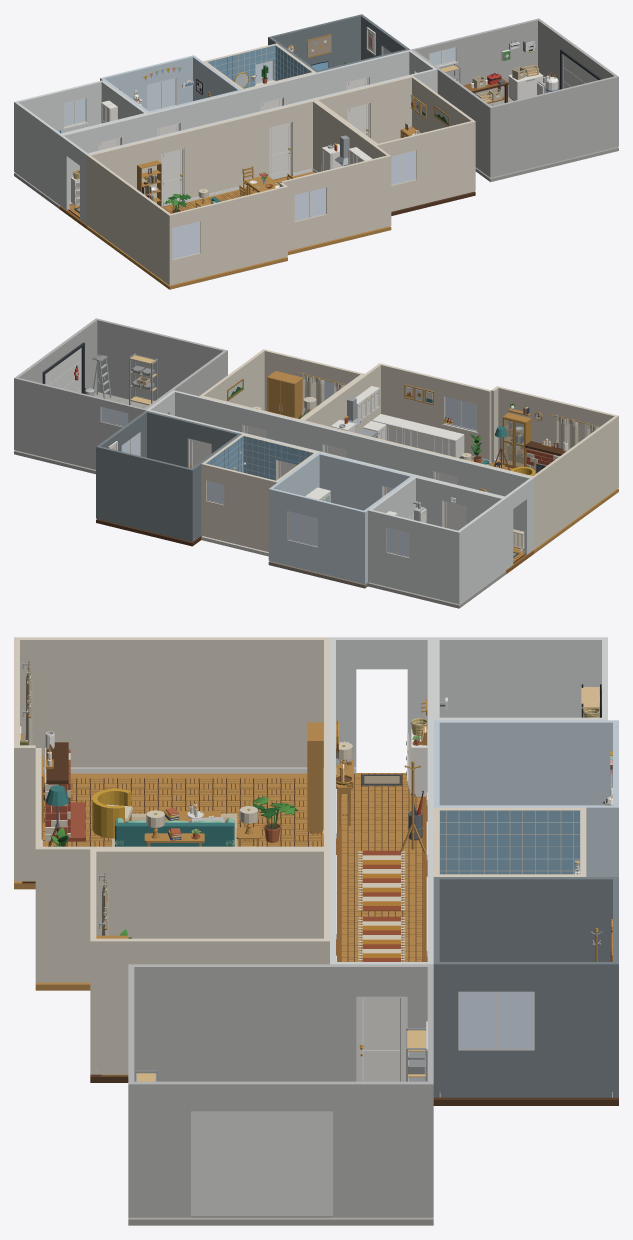
File: SM_LPI_Room_FlatFamily.fbx
3 views of the same model, one above another, from view 1: azimuth 30°, elevation 25°; view 2: azimuth 150°, elevation 25°; view 3: azimuth 270°, elevation 25° (orthographic). The views are drawn at different scales.
Parts seen in each view (by area): view 1: SM_LPI_Room_Living, SM_LPI_Room_Garage, SM_LPI_Room_Kitchen, SM_LPI_Room_Hall, SM_LPI_Room_Bedroom, SM_LPI_Room_Utility, SM_LPI_Room_Office, SM_LPI_Room_Kids, SM_LPI_Room_Bathroom, SM_LPI_Open_DoorSet_01.002, SM_LPI_Open_DoorSet_01.001, SM_LPI_Room_GarageDoor (+10 smaller); view 2: SM_LPI_Room_Garage, SM_LPI_Room_Utility, SM_LPI_Room_Office, SM_LPI_Room_Hall, SM_LPI_Room_Kids, SM_LPI_Room_Living, SM_LPI_Room_Bathroom, SM_LPI_Room_Kitchen, SM_LPI_Room_Bedroom, SM_LPI_Storage_Wardrobe_01.001, SM_LPI_Storage_Cabinet_01.001, SM_LPI_Room_GarageDoor (+11 smaller); view 3: SM_LPI_Room_Garage, SM_LPI_Room_Living, SM_LPI_Room_Office, SM_LPI_Room_Bedroom, SM_LPI_Room_Kids, SM_LPI_Room_GarageDoor, SM_LPI_Room_Utility, SM_LPI_Room_Hall, SM_LPI_Room_Bathroom, SM_LPI_Room_Kitchen, SM_LPI_Open_DoorSet_01.008, SM_LPI_Room_OfficeGlass (+9 smaller).
Boxes of the visible parts, x1,y1,x2,y2 form: SM_LPI_Room_Living: (86, 126, 287, 289); SM_LPI_Room_Garage: (411, 18, 618, 182); SM_LPI_Room_Kitchen: (205, 99, 391, 255); SM_LPI_Room_Hall: (59, 49, 437, 228); SM_LPI_Room_Bedroom: (314, 75, 475, 215); SM_LPI_Room_Utility: (14, 80, 147, 208); SM_LPI_Room_Office: (268, 14, 409, 72); SM_LPI_Room_Kids: (100, 55, 241, 113); SM_LPI_Room_Bathroom: (203, 43, 316, 90); SM_LPI_Open_DoorSet_01.002: (269, 122, 291, 179); SM_LPI_Open_DoorSet_01.001: (161, 148, 183, 206); SM_LPI_Room_GarageDoor: (560, 49, 600, 89); SM_LPI_Room_Garage: (14, 318, 227, 474); SM_LPI_Room_Utility: (368, 476, 506, 608); SM_LPI_Room_Office: (96, 410, 241, 546); SM_LPI_Room_Hall: (146, 390, 533, 573); SM_LPI_Room_Kids: (268, 452, 414, 588); SM_LPI_Room_Living: (412, 386, 618, 553); SM_LPI_Room_Bathroom: (201, 434, 317, 556); SM_LPI_Room_Kitchen: (301, 363, 491, 463); SM_LPI_Room_Bedroom: (199, 349, 364, 420); SM_LPI_Storage_Wardrobe_01.001: (267, 371, 302, 418); SM_LPI_Storage_Cabinet_01.001: (502, 412, 531, 468); SM_LPI_Room_GarageDoor: (42, 342, 84, 393); SM_LPI_Room_Garage: (128, 964, 433, 1225); SM_LPI_Room_Living: (14, 637, 329, 889); SM_LPI_Room_Office: (433, 877, 618, 1105); SM_LPI_Room_Bedroom: (90, 849, 329, 1082); SM_LPI_Room_Kids: (433, 720, 618, 876); SM_LPI_Room_GarageDoor: (191, 1111, 332, 1216); SM_LPI_Room_Utility: (433, 637, 607, 720); SM_LPI_Room_Hall: (330, 637, 433, 964); SM_LPI_Room_Bathroom: (433, 807, 586, 876); SM_LPI_Room_Kitchen: (35, 748, 329, 990); SM_LPI_Open_DoorSet_01.008: (356, 996, 407, 1081); SM_LPI_Room_OfficeGlass: (460, 992, 532, 1048).
Size of the model in its own units: 19.4 by 2.87 by 11.1.
